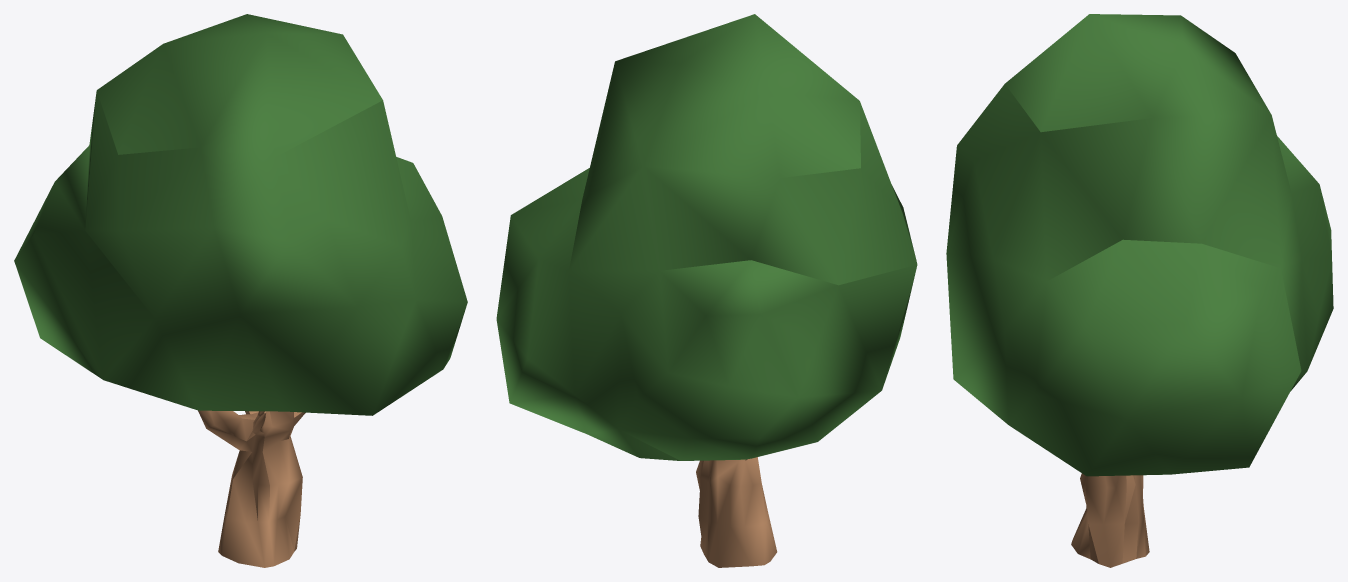
File: oak2.fbx
3 views of the same model, side by side, from view 1: azimuth 30°, elevation 25°; view 2: azimuth 150°, elevation 25°; view 3: azimuth 270°, elevation 25° (orthographic).
Parts seen in each view (by area): view 1: Canopy, Trunk; view 2: Canopy, Trunk; view 3: Canopy, Trunk.
Boxes of the visible parts, left/top/right/bottom form: Canopy: left=14, top=14, right=467, bottom=415; Trunk: left=198, top=410, right=305, bottom=567; Canopy: left=496, top=14, right=917, bottom=460; Trunk: left=696, top=457, right=777, bottom=567; Canopy: left=946, top=14, right=1333, bottom=476; Trunk: left=1071, top=473, right=1149, bottom=567.
Bounding box in the file's own units: 2.01 × 2.9 × 1.9.
